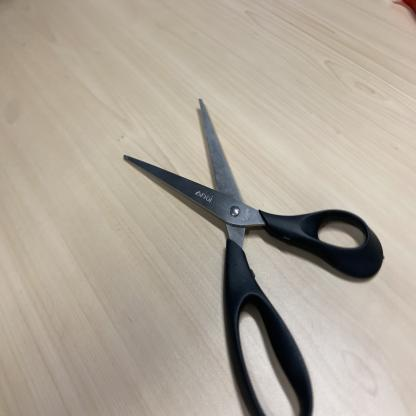scissors: (120, 98, 385, 416)
